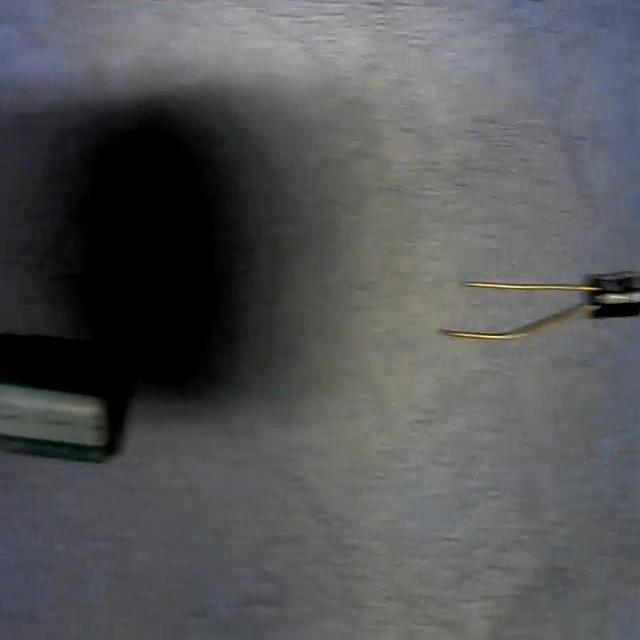capacitor: (0, 323, 122, 467), (448, 261, 640, 340)
